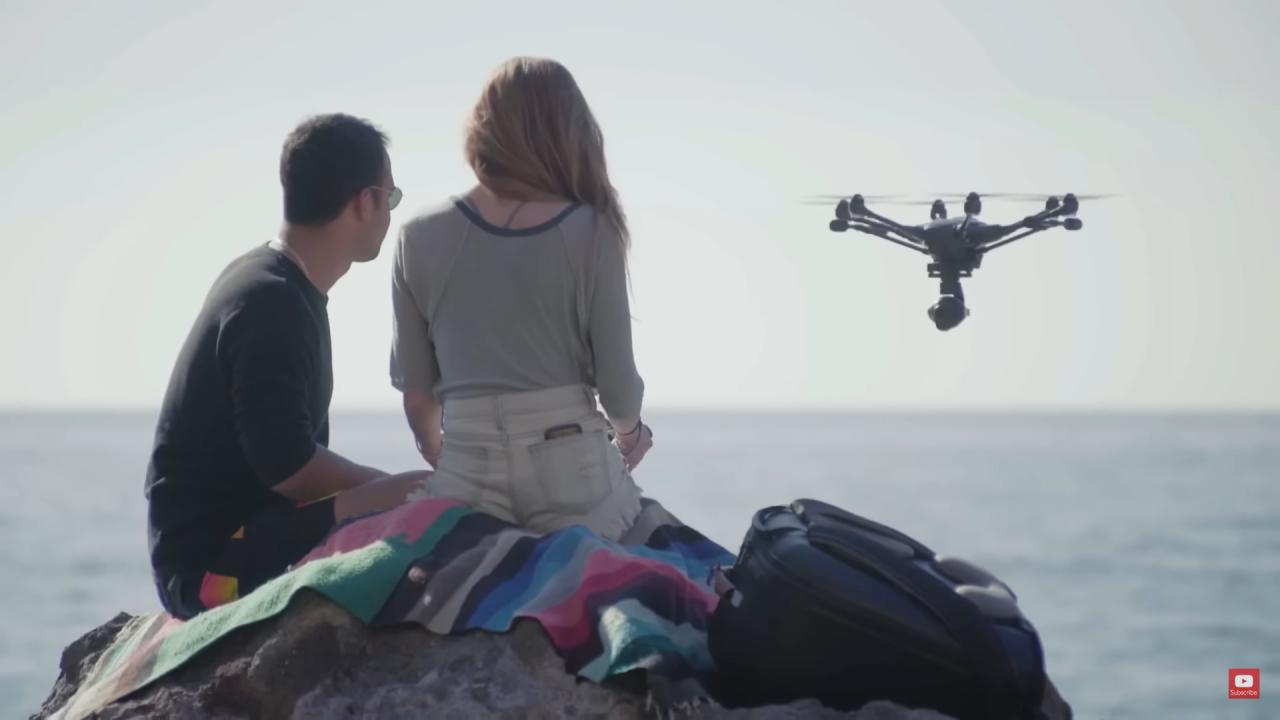Drone: (781, 182, 1134, 344)
